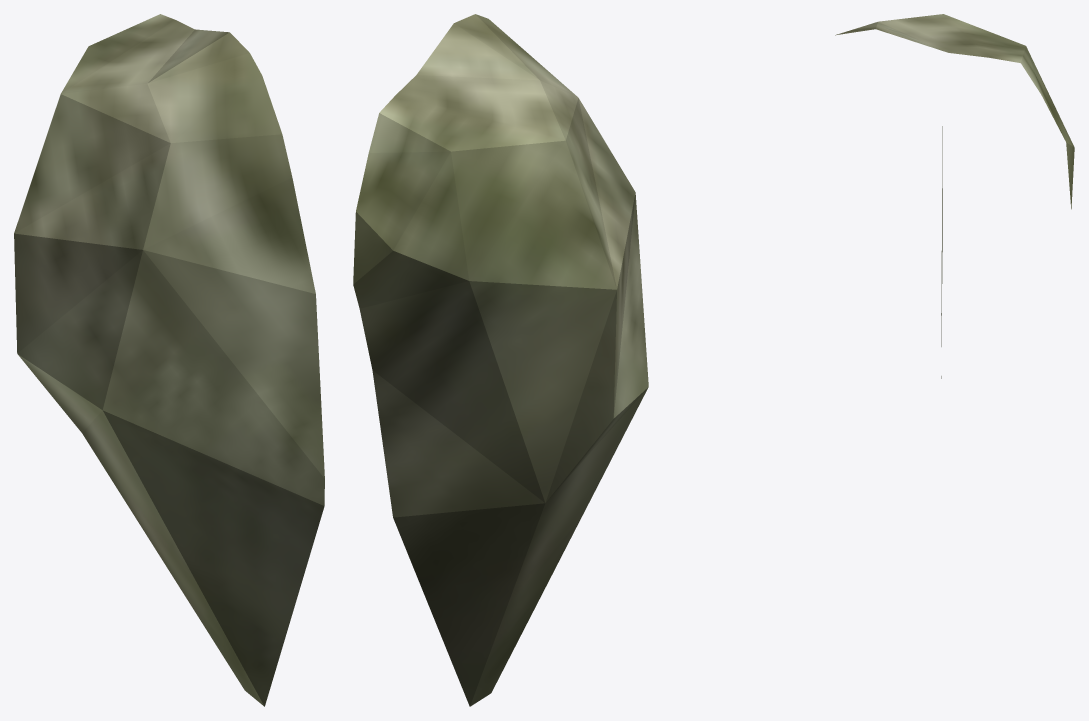
3 views of the same model, side by side, from view 1: azimuth 30°, elevation 25°; view 2: azimuth 150°, elevation 25°; view 3: azimuth 270°, elevation 25° (orthographic). The views are drawn at different scales.
Bounding box in the file's own units: 0.2416 × 0.8148 × 0.4331.
1 material, 1 textured.
